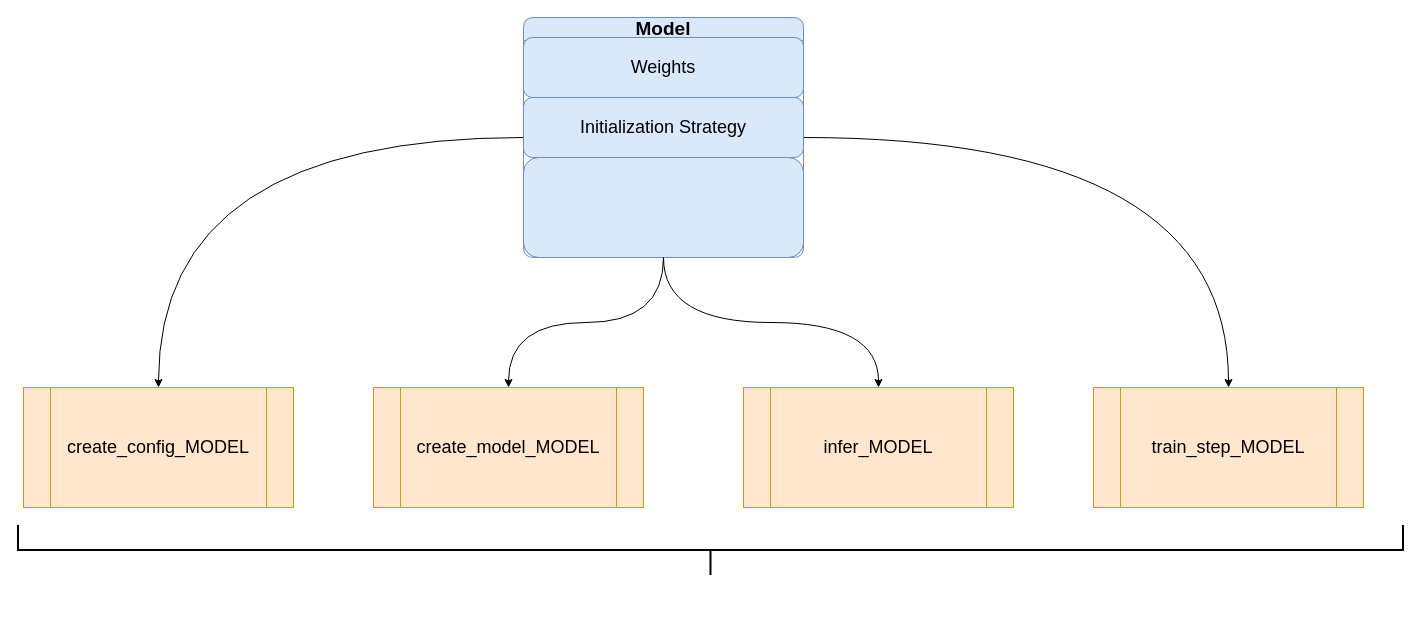
The diagram is 1421 pixels wide and 635 high, and some of its shapes have lost their labels. The shapes that lost their labels are listed below. From the top down, each one's centre as x and y in pixels, then its label:
At point 663,207: "Rng Interface".
At point 710,550: "Model Usage API".
